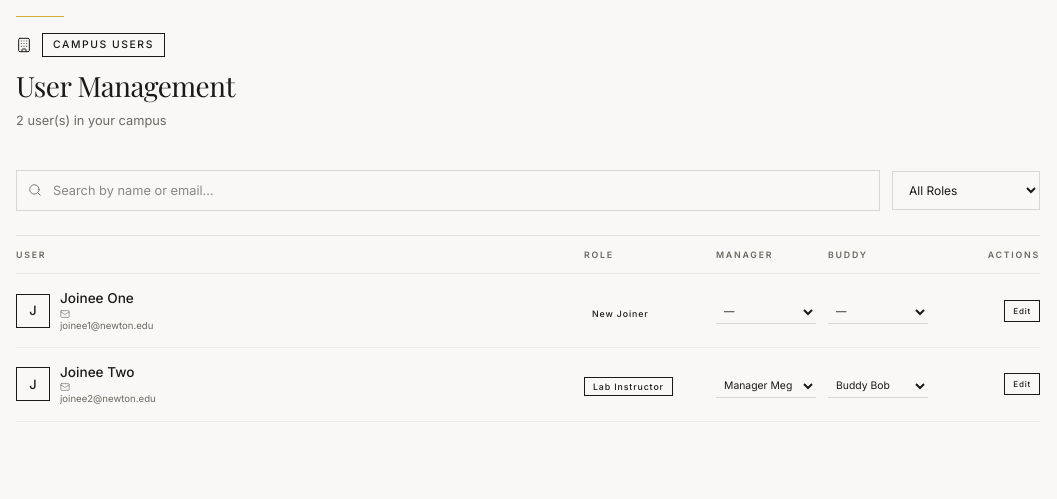
it: CampusUserManagement — scoped campus admin user management › assigns a buddy via a user-scoped update
The image size is (1057, 499).
Expected: the text "Joinee One" is shown, [60, 290, 134, 306]
Combobox order: [role-filter, u1-manager, u1-buddy, u2-manager, u2-buddy]
Step 1. Select "Buddy Bob" in the 3rd dropdown → (878, 312), box [828, 300, 928, 324]
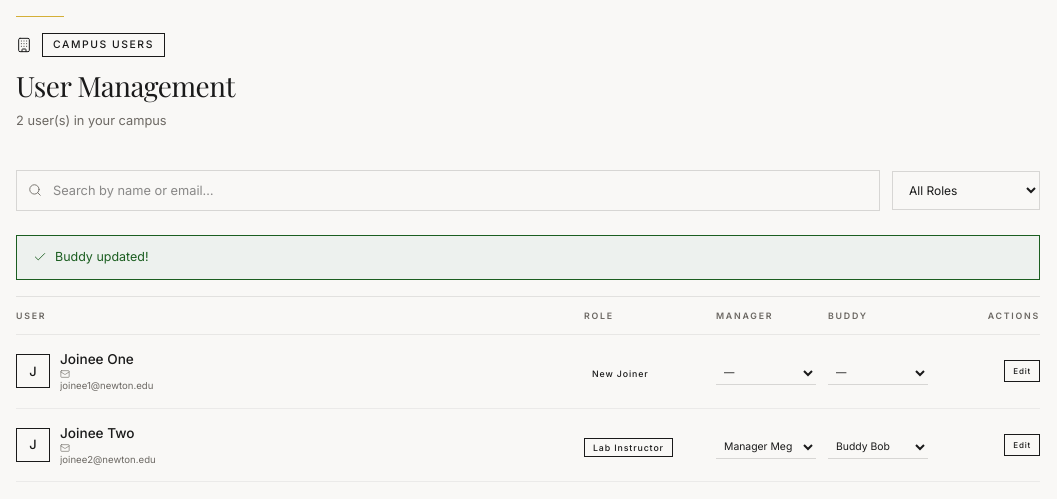
Result: the text "Buddy updated!" is shown at [55, 248, 148, 267]
